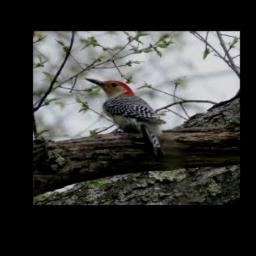Woodpecker: (84, 77, 166, 157)
